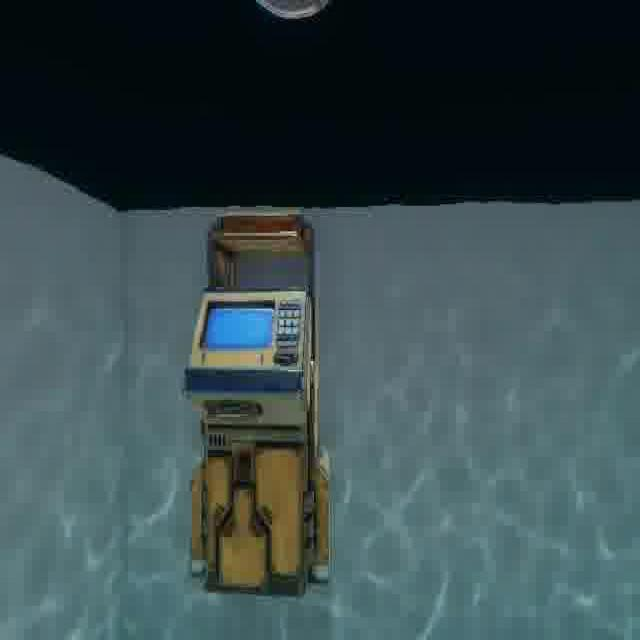Control Panel: (179, 193, 338, 614)
